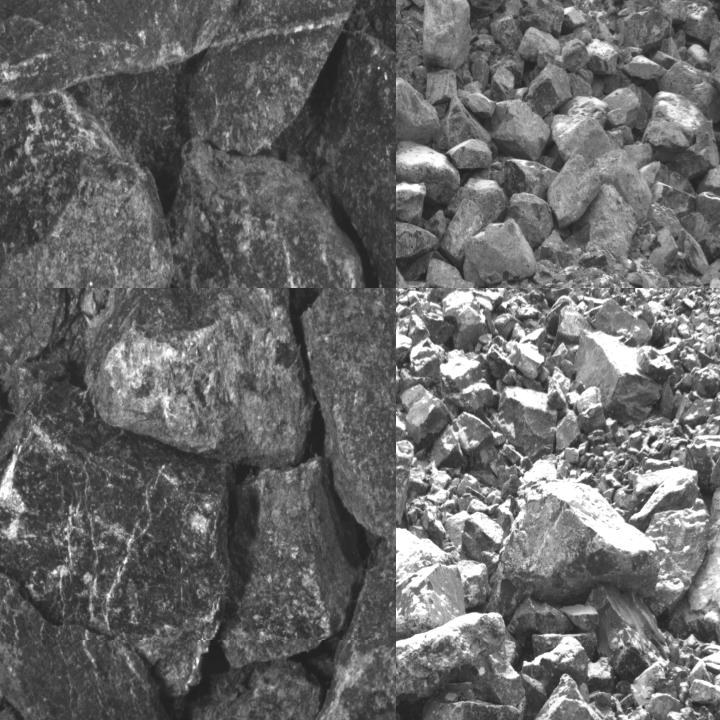stone: (0, 415, 235, 704), (77, 288, 311, 466), (0, 90, 175, 287), (185, 0, 395, 157), (166, 133, 380, 287), (0, 553, 193, 719), (219, 455, 362, 670), (0, 0, 259, 106), (302, 288, 395, 539), (490, 480, 657, 612), (314, 30, 395, 287), (293, 535, 395, 719), (396, 609, 507, 702), (574, 330, 676, 424), (177, 666, 318, 719), (587, 584, 668, 676), (642, 93, 720, 182), (649, 504, 710, 612), (396, 562, 464, 644), (521, 638, 589, 719), (465, 219, 536, 283), (591, 148, 652, 222), (496, 386, 556, 461), (396, 137, 462, 203), (574, 186, 634, 256), (552, 110, 624, 168), (658, 61, 719, 129), (548, 152, 600, 231), (433, 414, 496, 472), (421, 0, 472, 71), (490, 100, 550, 160), (438, 349, 496, 411), (436, 96, 496, 154), (507, 597, 575, 647), (539, 677, 618, 719), (584, 300, 653, 347), (400, 383, 451, 445), (396, 79, 438, 153), (438, 201, 480, 272), (523, 63, 573, 119), (451, 175, 506, 224), (508, 193, 554, 251), (621, 0, 672, 52), (396, 218, 439, 267), (549, 305, 592, 351), (460, 511, 502, 557), (419, 700, 520, 719), (503, 161, 556, 196), (458, 560, 494, 610), (409, 338, 447, 384), (698, 158, 719, 235), (575, 384, 607, 432), (396, 439, 413, 525), (396, 181, 426, 229), (453, 0, 512, 23), (449, 139, 492, 170), (507, 343, 545, 378), (522, 32, 562, 64), (558, 604, 602, 632), (682, 395, 718, 425), (556, 412, 581, 452), (687, 680, 719, 704), (396, 333, 411, 373), (547, 379, 565, 410), (709, 435, 719, 487)
